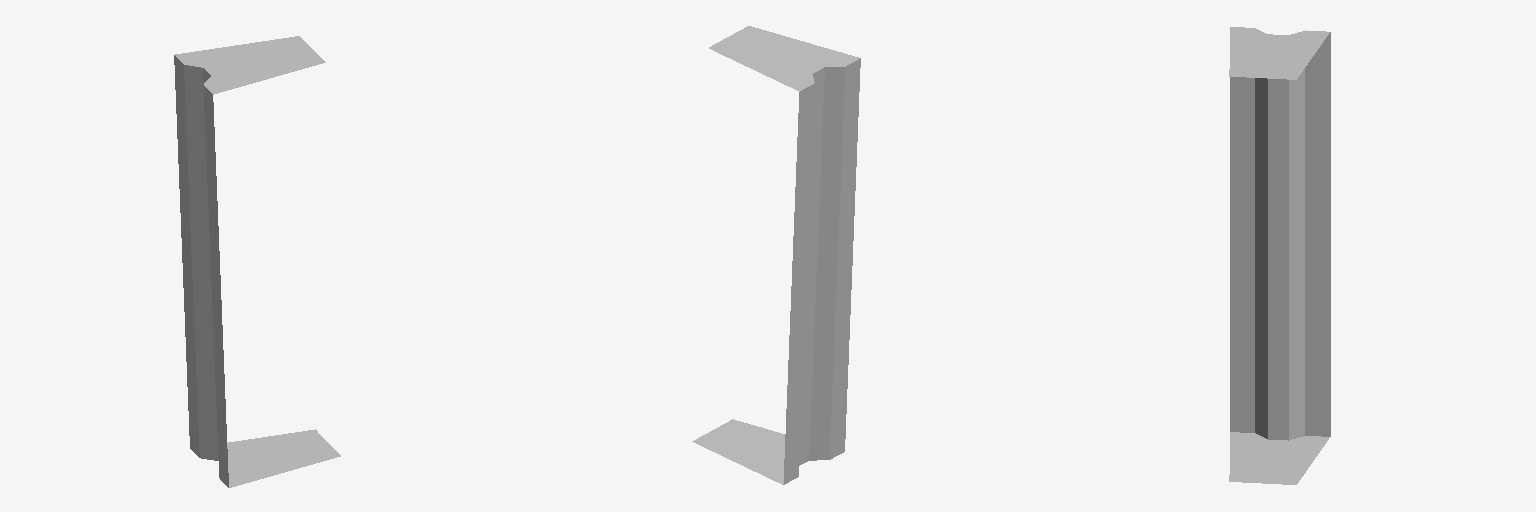
Rendered from original-133.obj.
The picture shows the model from 3 angles: view 1: azimuth 30°, elevation 25°; view 2: azimuth 150°, elevation 25°; view 3: azimuth 270°, elevation 25°; orthographic projection.
Parts seen in each view (by area): view 1: instance_74/Component_4/ID429#ID429; view 2: instance_74/Component_4/ID429#ID429; view 3: instance_74/Component_4/ID429#ID429.
Boxes of the visible parts, <box> form: instance_74/Component_4/ID429#ID429: <box>174,36,340,487</box>; instance_74/Component_4/ID429#ID429: <box>692,26,860,484</box>; instance_74/Component_4/ID429#ID429: <box>1229,27,1330,484</box>.
Size of the model in its own units: 0.0033 by 0.0093 by 0.0021.